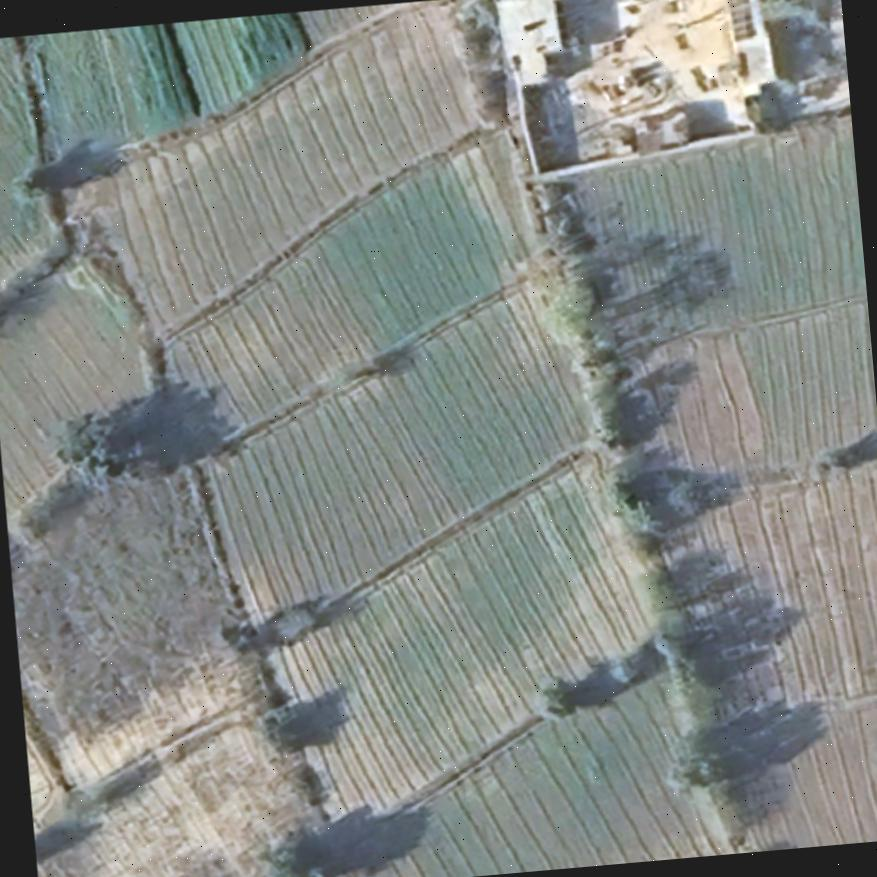Solarpanel: (724, 0, 756, 44)
